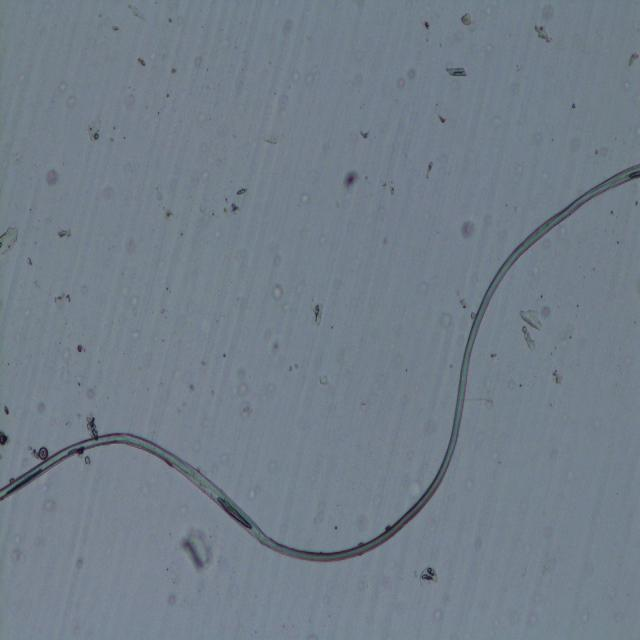Background material: (180, 527, 214, 569), (516, 305, 542, 355), (281, 56, 317, 89), (54, 73, 82, 112), (154, 184, 176, 224), (222, 183, 247, 217), (260, 326, 284, 358), (0, 224, 22, 258), (236, 380, 254, 420), (436, 304, 460, 329), (85, 113, 105, 143), (398, 66, 418, 94), (533, 20, 553, 47), (82, 411, 100, 440), (36, 493, 60, 514), (122, 4, 147, 23), (416, 564, 438, 585), (127, 322, 147, 345), (444, 62, 468, 80), (295, 184, 315, 204), (460, 218, 476, 242), (342, 168, 358, 191), (51, 291, 70, 310), (454, 295, 472, 315), (277, 17, 293, 39), (268, 282, 284, 304), (310, 300, 324, 324), (103, 19, 124, 35), (43, 170, 59, 191), (419, 15, 436, 32), (423, 157, 435, 181), (74, 340, 89, 359), (57, 227, 73, 243), (456, 12, 471, 29), (34, 445, 49, 462), (552, 365, 564, 386), (625, 50, 640, 66), (382, 174, 394, 194), (435, 111, 449, 128), (135, 53, 147, 70), (0, 430, 10, 450), (271, 136, 283, 147), (189, 382, 198, 396), (356, 131, 371, 139), (130, 242, 136, 260), (174, 594, 186, 603)
Microfibre: (0, 164, 640, 564)
